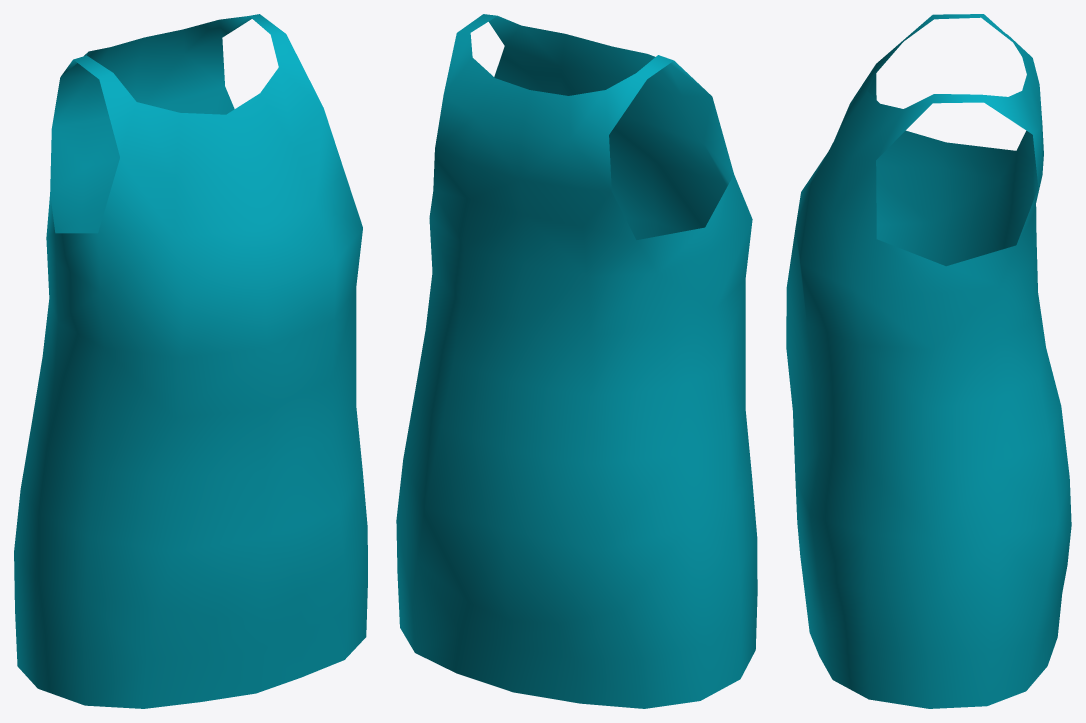
Rendered from Outerwear_Light_Blue_005.glb.
3 renders of one model, left to right at view 1: azimuth 30°, elevation 25°; view 2: azimuth 150°, elevation 25°; view 3: azimuth 270°, elevation 25°, orthographic. The views are drawn at different scales.
Visible parts, largest first — view 1: Outerwear_Light_Blue_005; view 2: Outerwear_Light_Blue_005; view 3: Outerwear_Light_Blue_005.
Part boxes in pixels (left/top/right/bottom): Outerwear_Light_Blue_005: left=14, top=14, right=367, bottom=708; Outerwear_Light_Blue_005: left=396, top=14, right=757, bottom=708; Outerwear_Light_Blue_005: left=786, top=14, right=1071, bottom=708.
Bounding box in the file's own units: 0.4681 × 0.8466 × 0.3763.
Materials: 1 (1 with a texture image).
